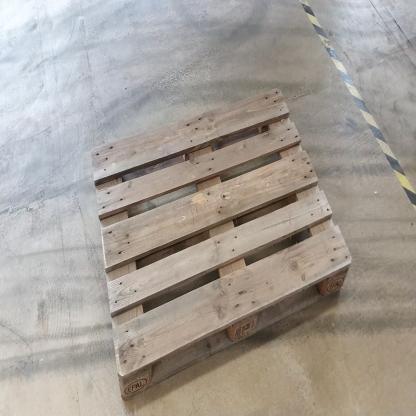BoxFace: (84, 80, 356, 404)
